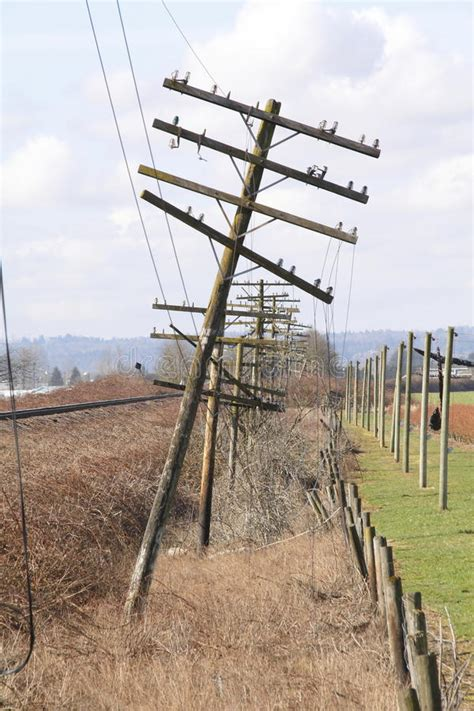pole: (100, 63, 383, 636)
